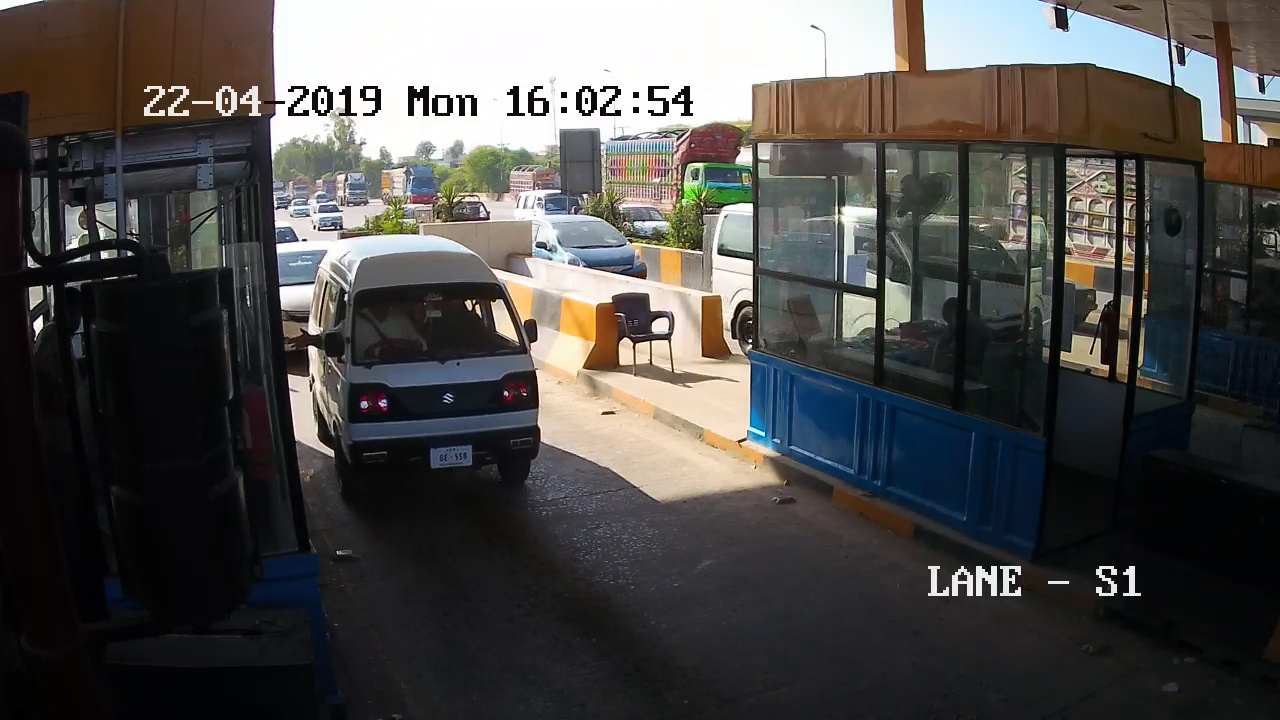car: (314, 248, 569, 513)
